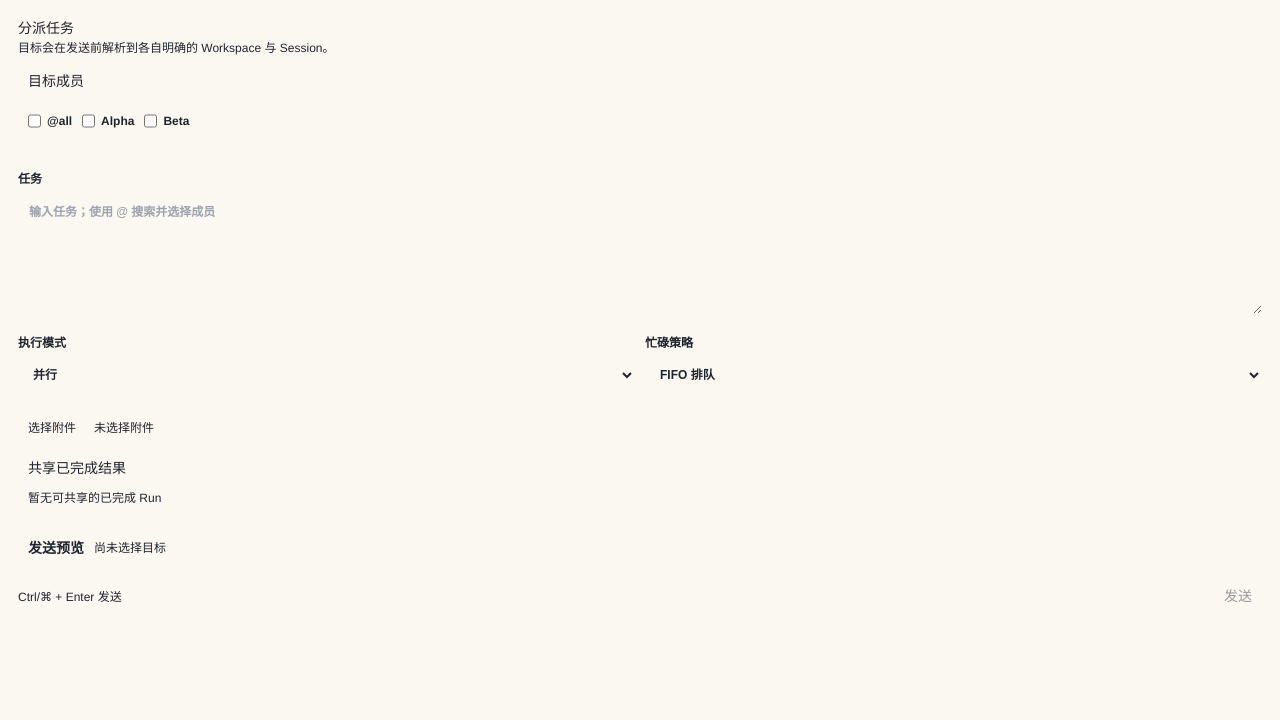
AgentRoomComposer › exposes abort-and-replace only as a fail-closed policy and reports an unconfirmed abort
The image size is (1280, 720).
Click the checkbox labelled "Alpha" at (88, 121), box [82, 102, 95, 140]
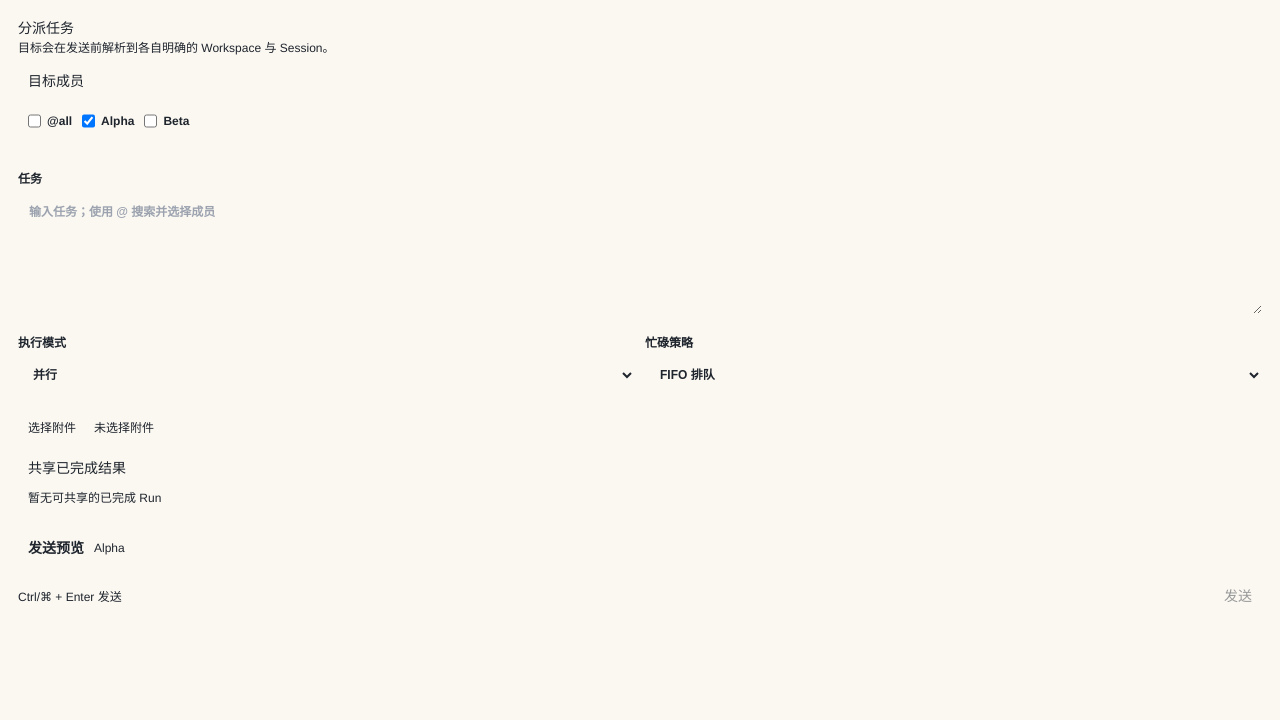
Type "replace safely" into the text box named "任务内容" at (640, 254), box [18, 194, 1262, 314]
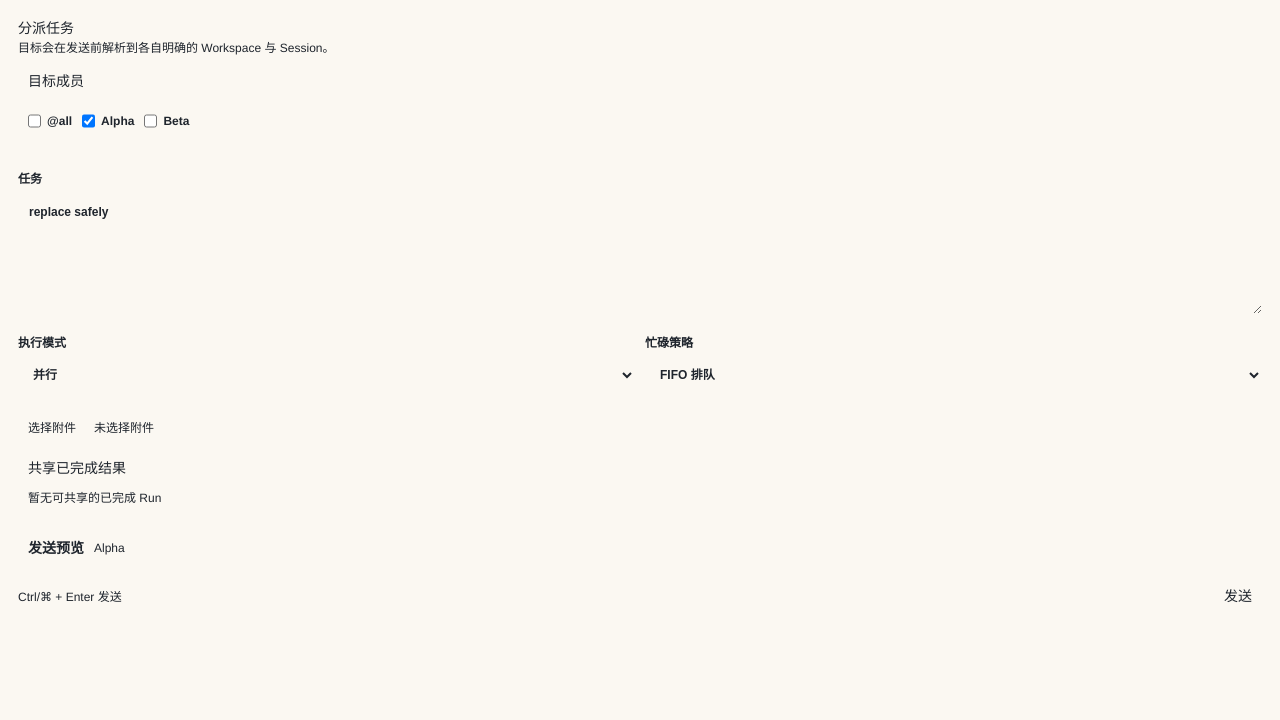
Select "中止后替换（当前安全阻塞）" in the dropdown labelled "忙碌策略" at (954, 375), box [645, 358, 1262, 392]
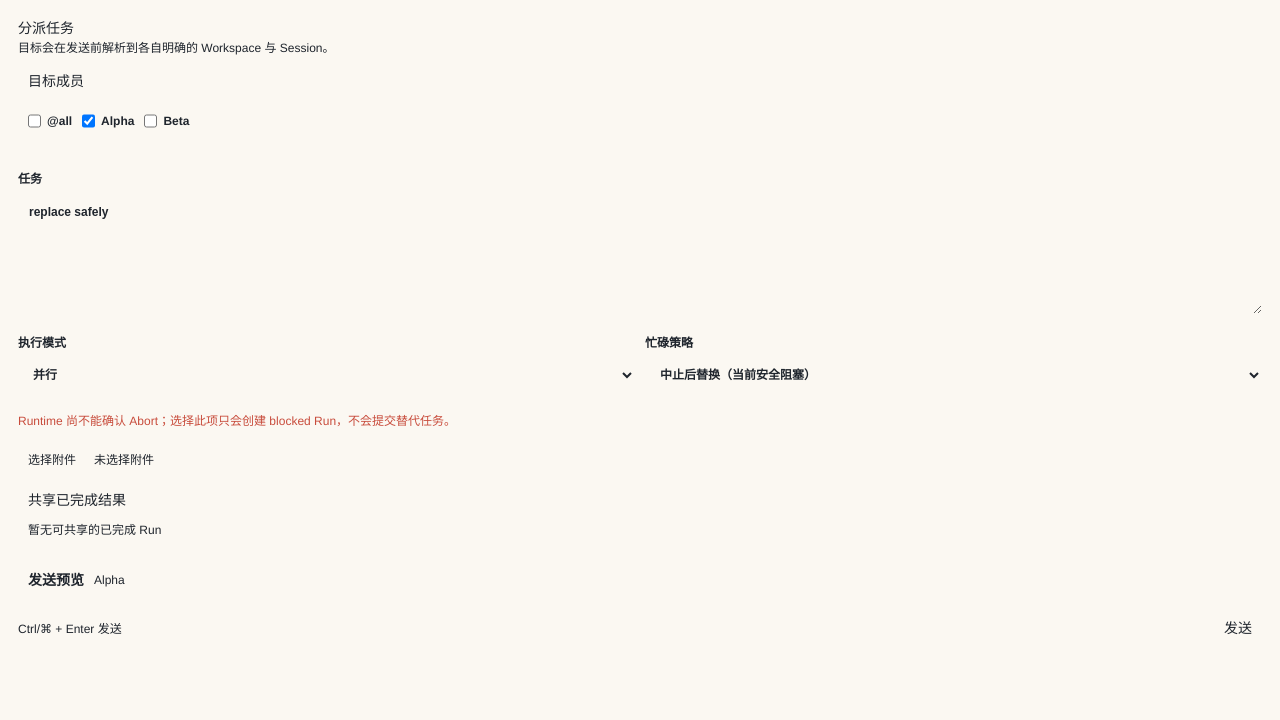
Now the text "Runtime 尚不能确认 Abort；选择此项只会创建 blocked Run，不会提交替代任务。" is shown, box [18, 414, 456, 428]
Click the button "发送" at (1238, 628), box [1214, 611, 1262, 646]
(page scrolled)
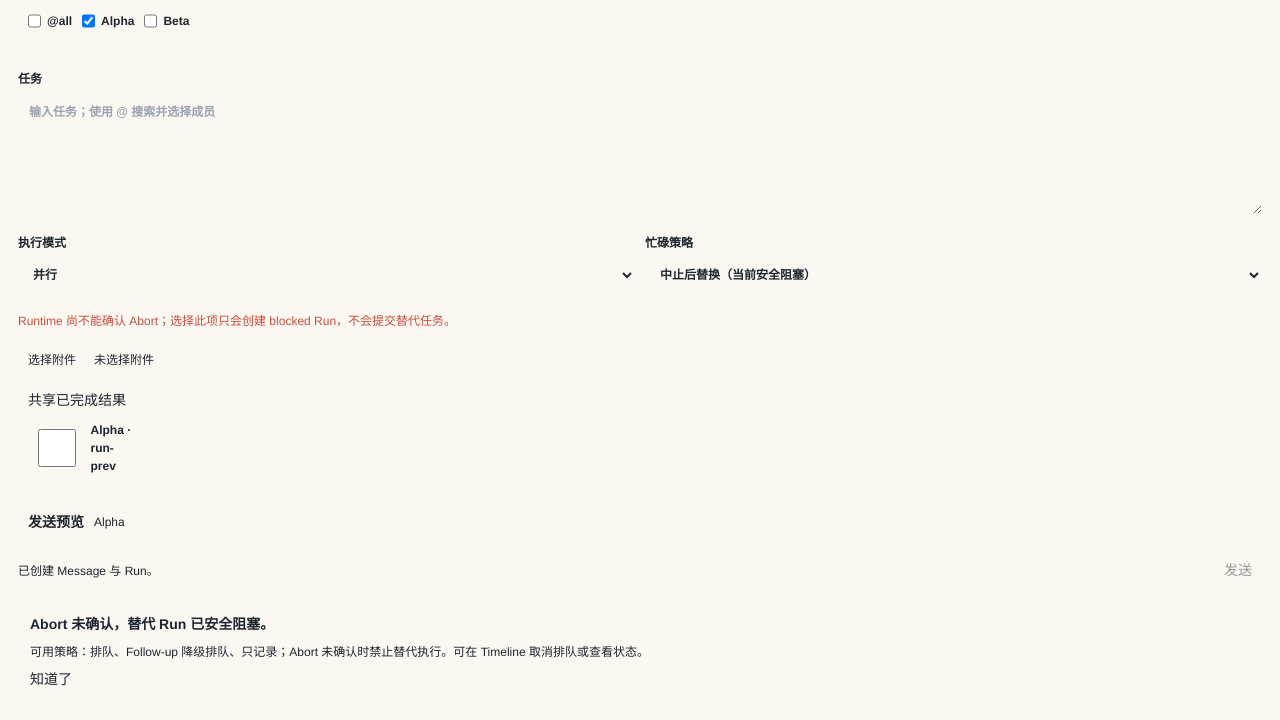
Now the dialog named "Session busy 处理结果" shows "Abort 未确认", box [30, 616, 274, 632]
